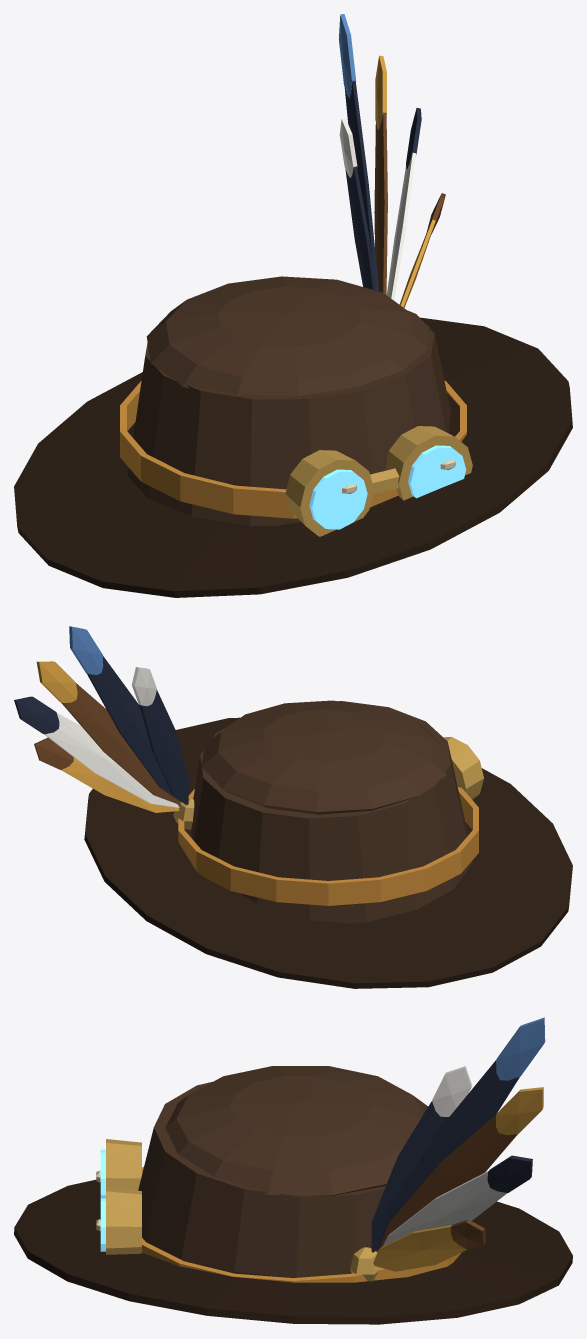
File: kitewing_chief_hat.glb
3 renders of one model, top to bottom at view 1: azimuth 30°, elevation 25°; view 2: azimuth 150°, elevation 25°; view 3: azimuth 270°, elevation 25°, orthographic. The views are drawn at different scales.
Visible parts, largest first — view 1: kitewing_chief_hat; view 2: kitewing_chief_hat; view 3: kitewing_chief_hat.
Part boxes in pixels (<box>): kitewing_chief_hat: <box>14,14,572,597</box>; kitewing_chief_hat: <box>14,626,572,988</box>; kitewing_chief_hat: <box>14,1017,572,1324</box>.
Bounding box in the file's own units: 1.6 × 1.12 × 1.56.
